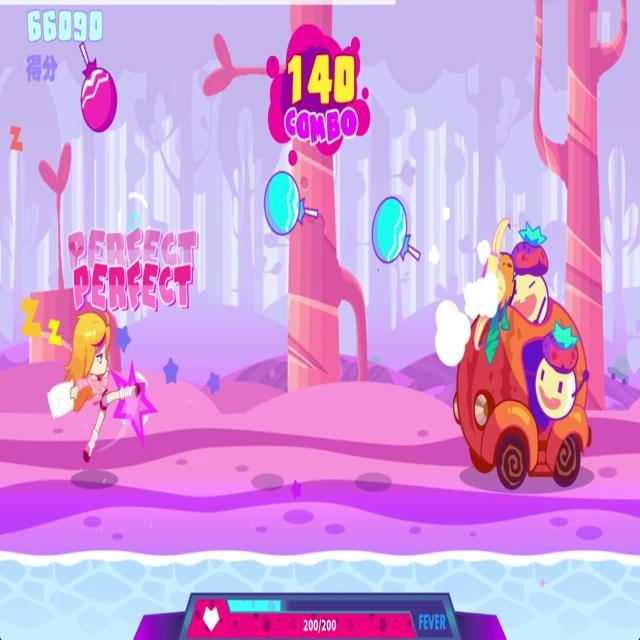cheboss: (453, 212, 595, 492)
tang: (368, 191, 426, 272), (261, 166, 321, 240), (78, 41, 120, 139)
